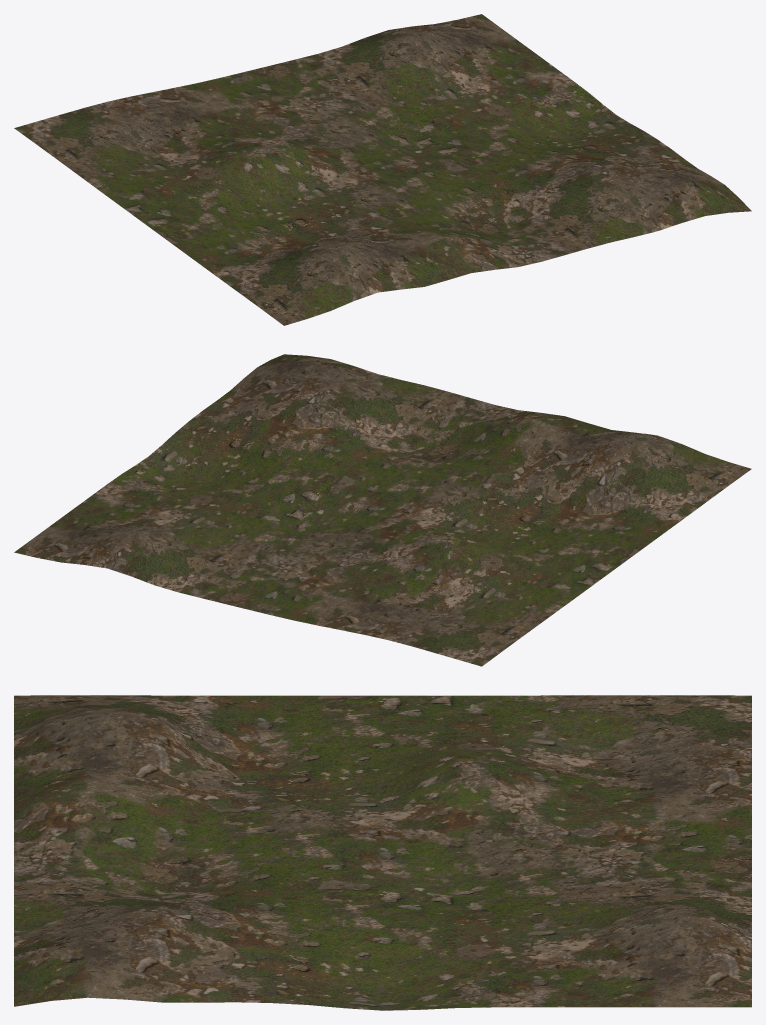
File: Ground123.fbx
The picture shows the model from 3 angles, top to bottom: view 1: azimuth 30°, elevation 25°; view 2: azimuth 150°, elevation 25°; view 3: azimuth 270°, elevation 25°; orthographic projection. The views are drawn at different scales.
Visible parts, largest first — view 1: pPlane1; view 2: pPlane1; view 3: pPlane1.
Boxes of the visible parts, left/top/right/bottom form: pPlane1: left=14, top=14, right=751, bottom=325; pPlane1: left=14, top=354, right=751, bottom=666; pPlane1: left=14, top=695, right=751, bottom=1010.
Bounding box in the file's own units: 50 × 4.43 × 50.
